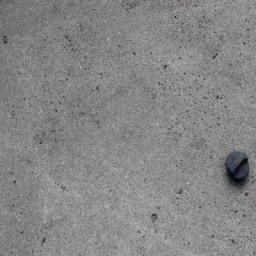FOD: (224, 148, 253, 183)
